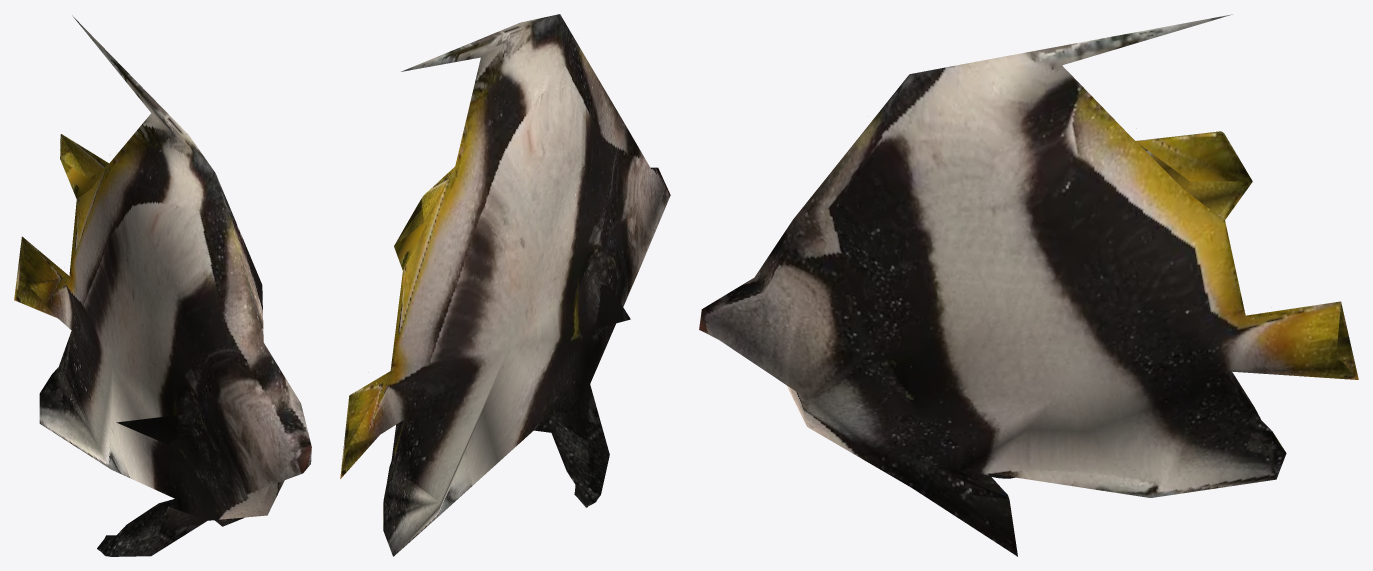
The model's file is butterflyfish_lo.glb.
3 renders of one model, left to right at view 1: azimuth 30°, elevation 25°; view 2: azimuth 150°, elevation 25°; view 3: azimuth 270°, elevation 25°, orthographic. The views are drawn at different scales.
Visible parts, largest first — view 1: butterflyfish_far; view 2: butterflyfish_far; view 3: butterflyfish_far.
Boxes of the visible parts, x1,y1,x2,y2 form: butterflyfish_far: (14, 15, 311, 556); butterflyfish_far: (340, 14, 670, 556); butterflyfish_far: (699, 14, 1358, 556).
Size of the model in its own units: 0.0429 by 0.1321 by 0.1541.
Materials: 1 (1 with a texture image).
